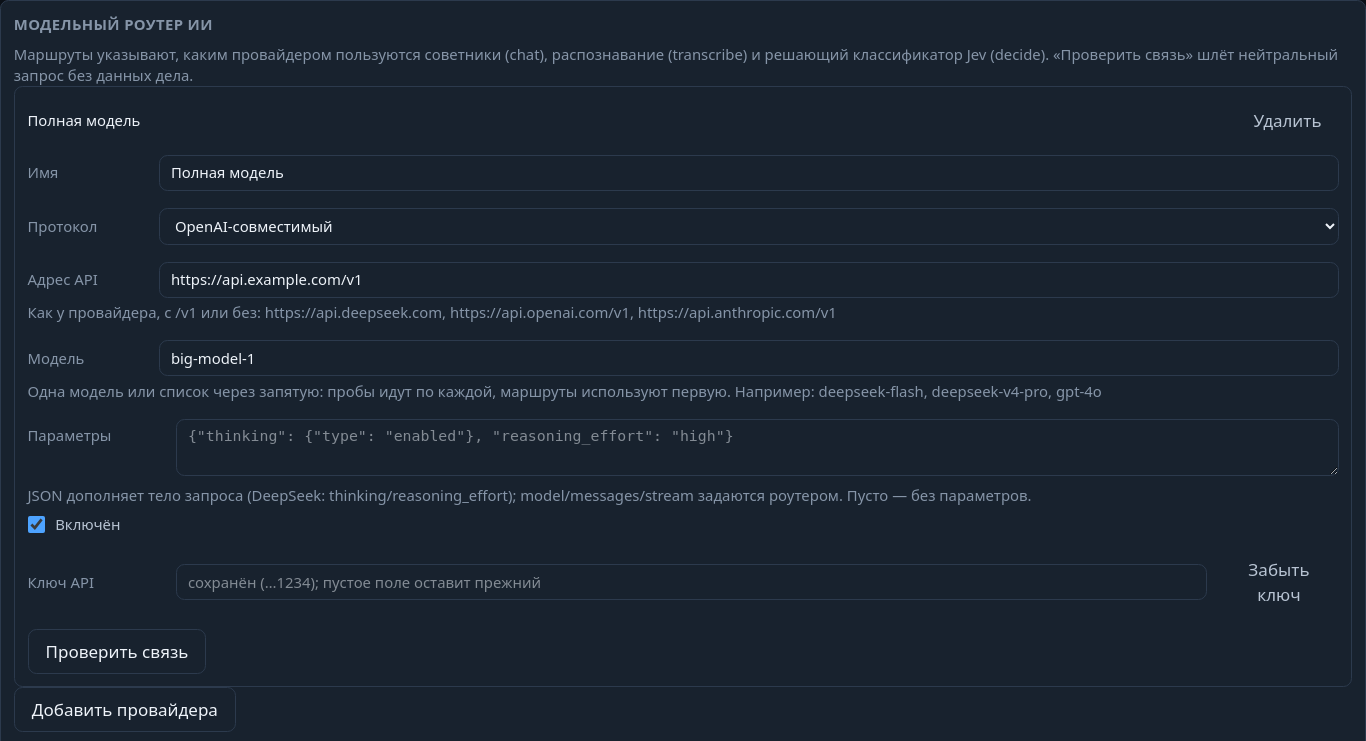
Test: панель «Модельный роутер ИИ» › ошибка провайдера показывается честно, без ложного успеха
The image size is (1366, 741).
Expected: the field labelled "Имя" is shown, [159, 155, 1339, 191]
Click the button "Проверить связь" at (117, 651), box [28, 629, 206, 674]
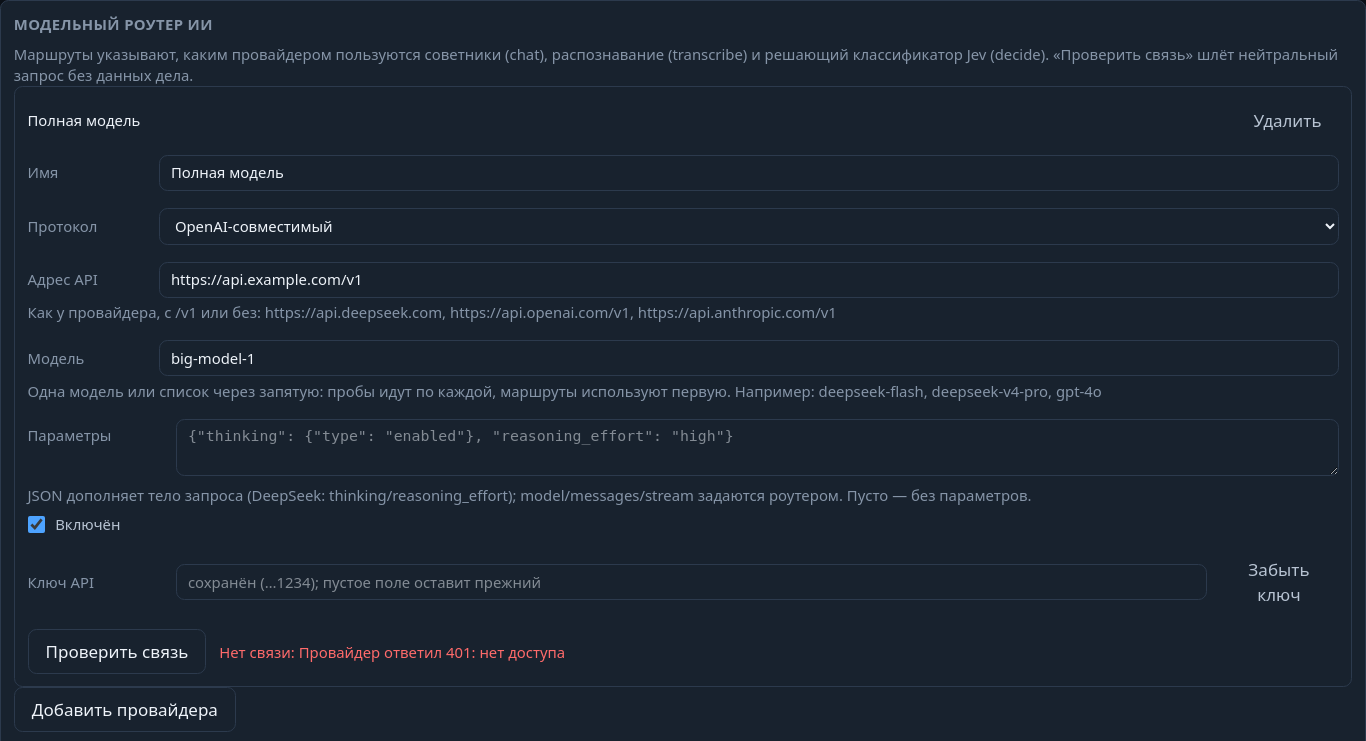
Expected: the text "Нет связи: Провайдер ответил 401: нет доступа" is shown, [219, 642, 565, 662]
